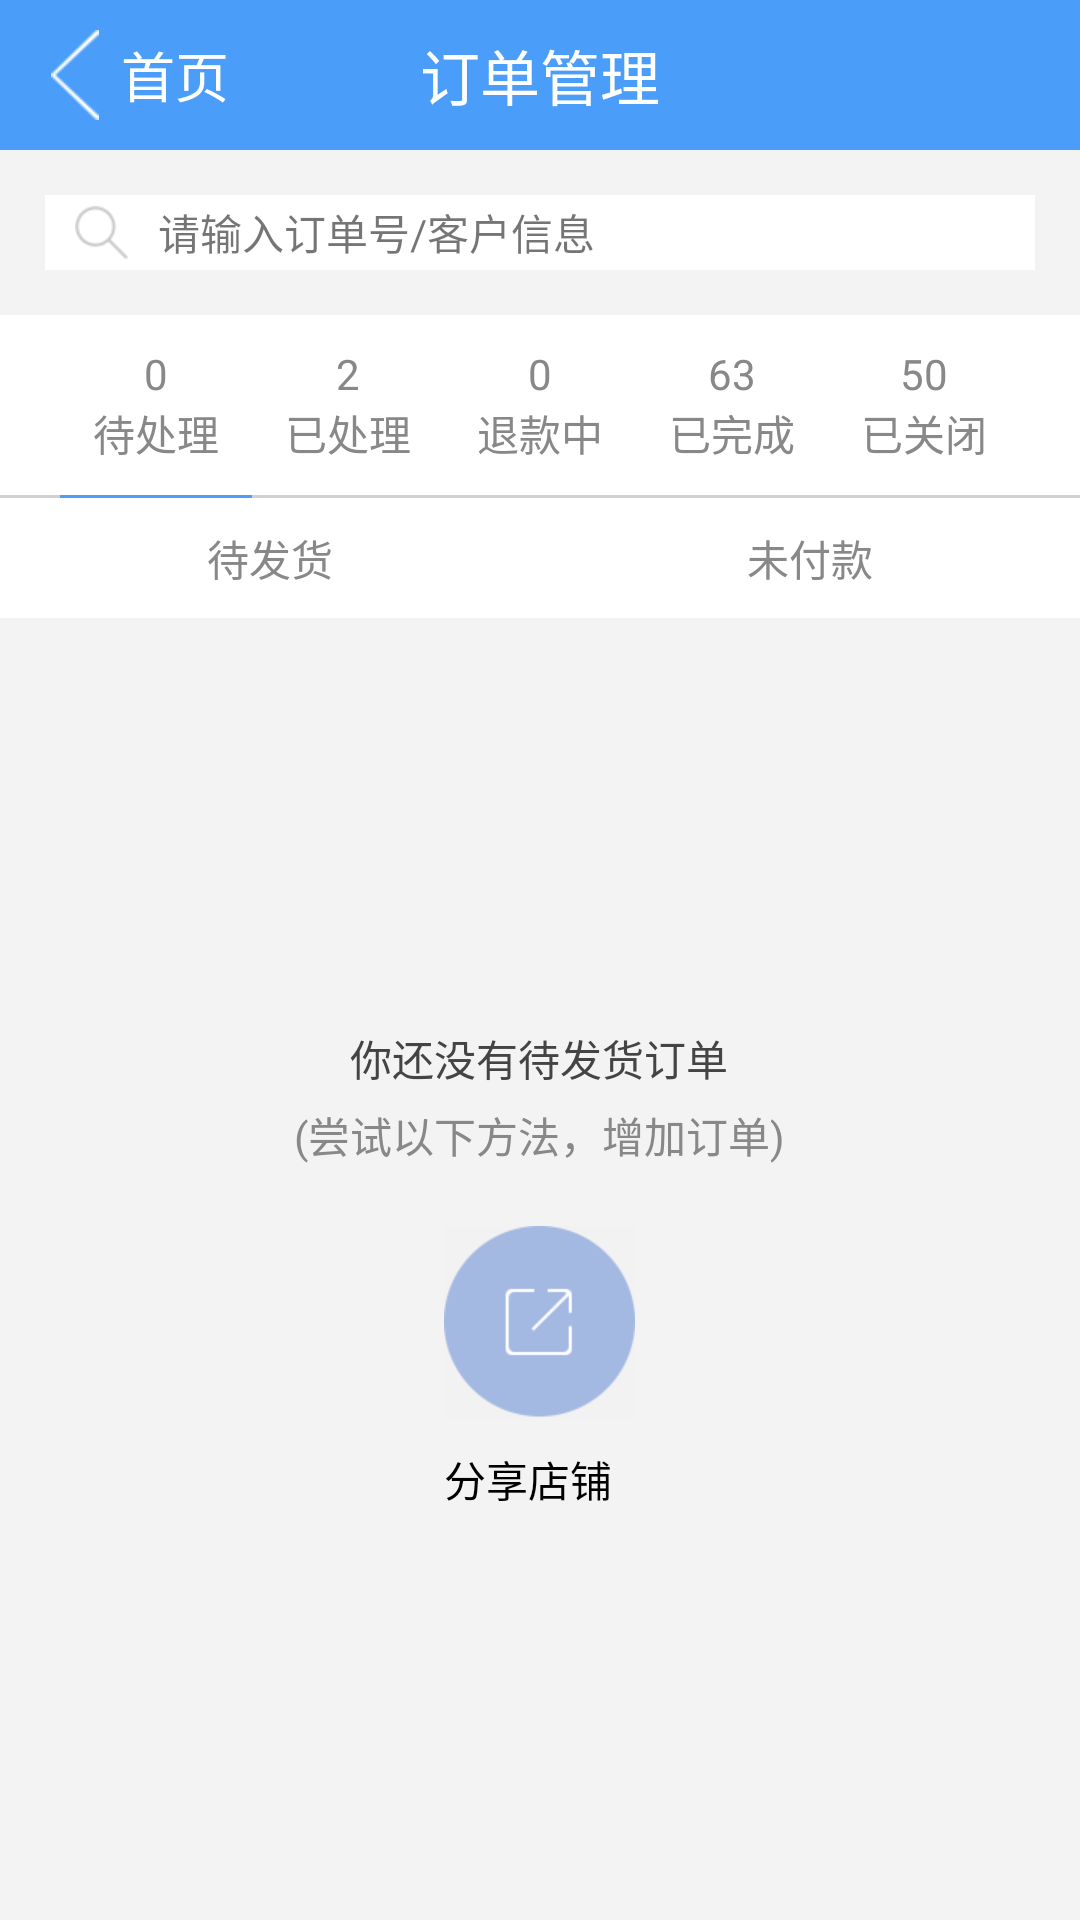

Point at icon controls on the screen. Image size 1080px x 1920px, points as (x,y).
search: (101,232)
